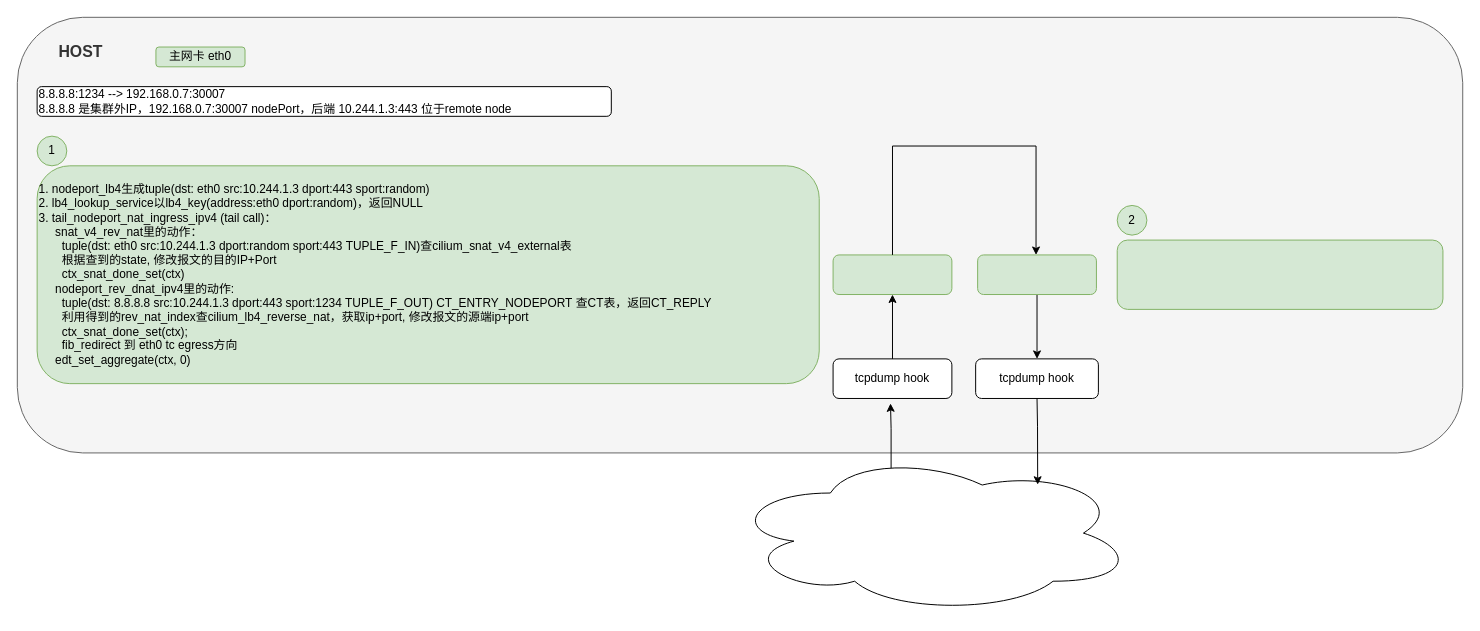
The diagram is 1480 pixels wide and 631 high, and some of its shapes have lost their labels. The box of each missing label's shape, as (x1, y1, x2, y2) in pixels:
cil_to_netdev： 1. ctx->queue_mapping为0，不会限速 2. 因为ctx->mark里已经设置了snat_done, 直接发出去: (1116, 239, 1443, 309)
Network: (728, 452, 1134, 613)
tc egress: (977, 254, 1096, 295)
tc ingress: (832, 254, 952, 295)
